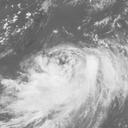cyclone: (29, 45, 112, 112)
